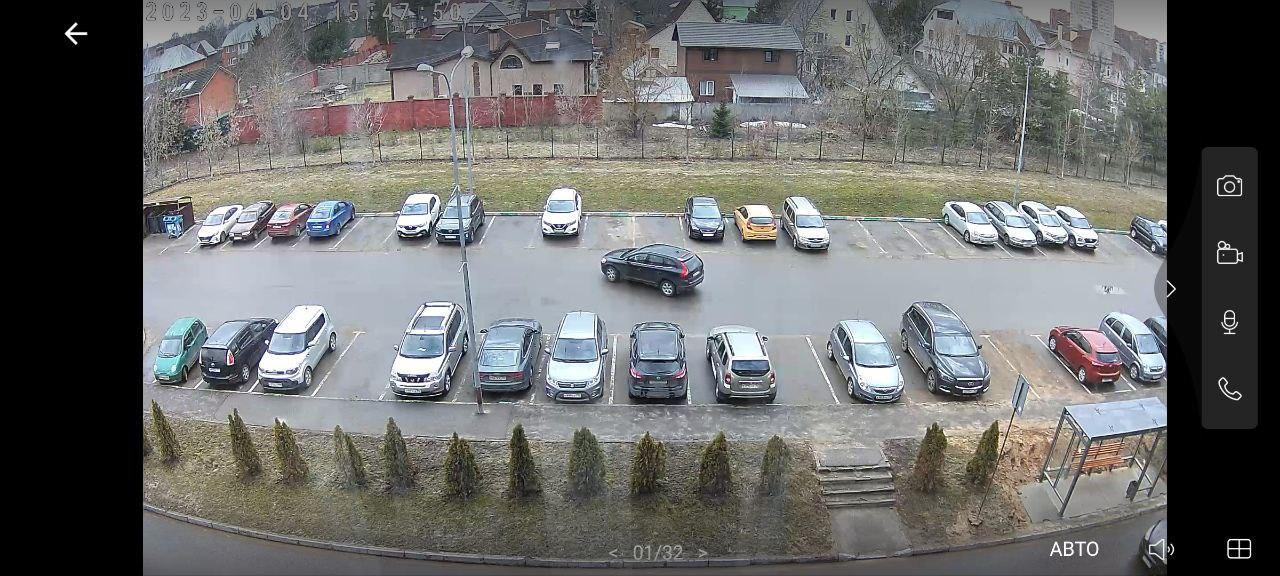empty: (379, 303, 472, 407), (906, 308, 1001, 405), (247, 309, 343, 398), (526, 320, 621, 406), (612, 323, 699, 408), (455, 323, 549, 401), (826, 322, 915, 404), (170, 316, 263, 393), (706, 330, 787, 408), (603, 241, 704, 296), (1047, 328, 1132, 389), (399, 192, 481, 243), (934, 200, 1007, 250), (199, 199, 270, 249), (534, 185, 595, 242), (147, 324, 202, 387), (1118, 317, 1169, 384), (777, 200, 838, 255), (1030, 202, 1094, 251), (677, 196, 732, 245), (298, 199, 360, 241), (730, 203, 778, 247), (1132, 219, 1167, 255)
occupied: (754, 325, 832, 403), (335, 318, 396, 405), (1008, 329, 1070, 396), (582, 202, 635, 250), (828, 212, 870, 262), (868, 205, 909, 256), (632, 204, 683, 245), (913, 214, 949, 253), (1104, 224, 1136, 261), (486, 219, 531, 245), (175, 220, 205, 258), (355, 219, 398, 245)
